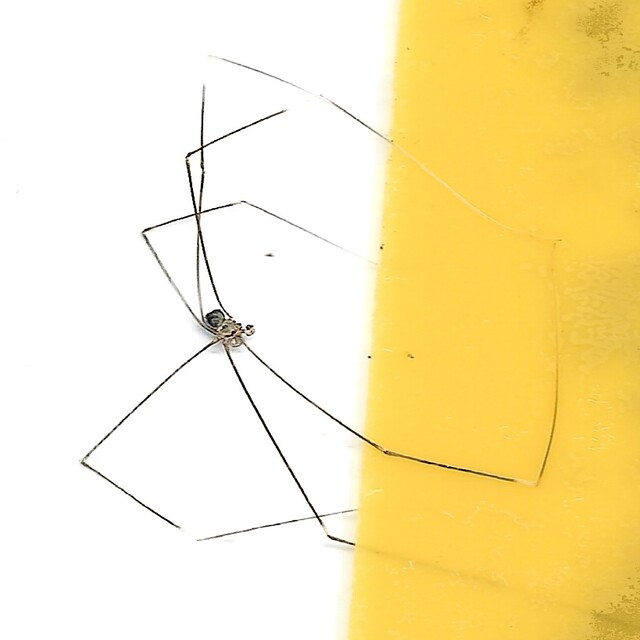Araneae: (78, 55, 562, 585)
